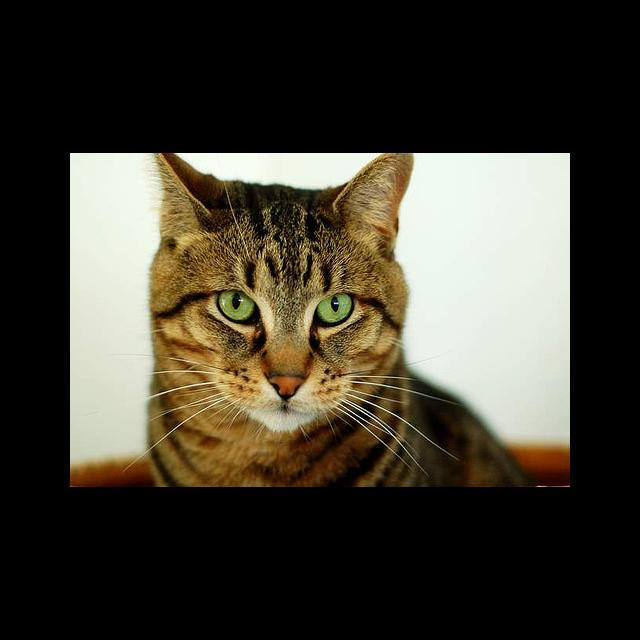animals: (152, 153, 410, 399)
